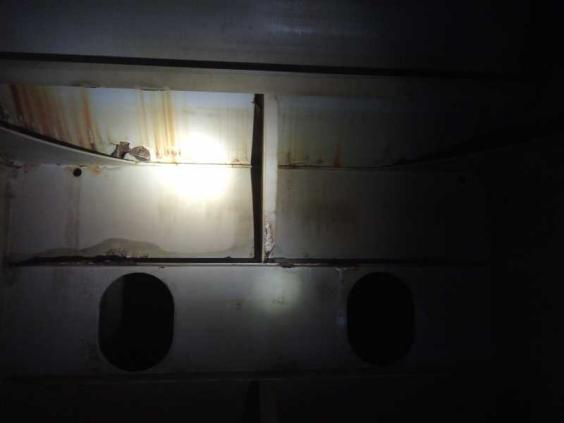corrosion: (5, 79, 114, 158), (134, 95, 186, 160)
